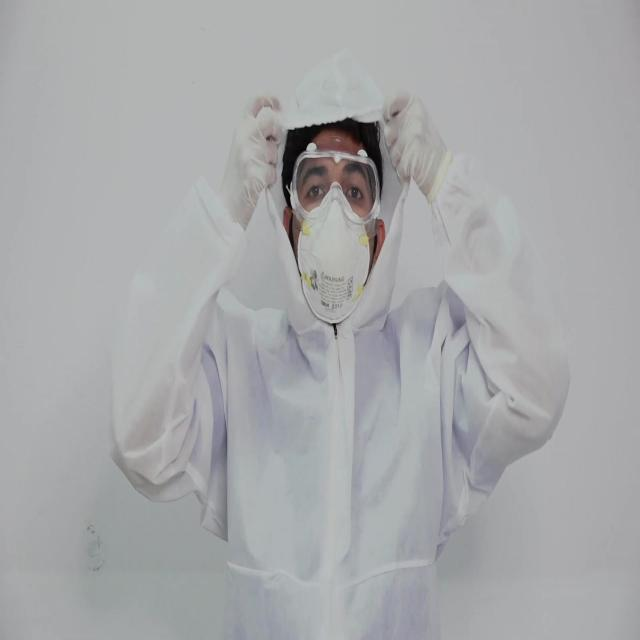Gloves: (218, 92, 283, 231), (382, 89, 450, 203)
Goggles: (289, 141, 382, 237)
